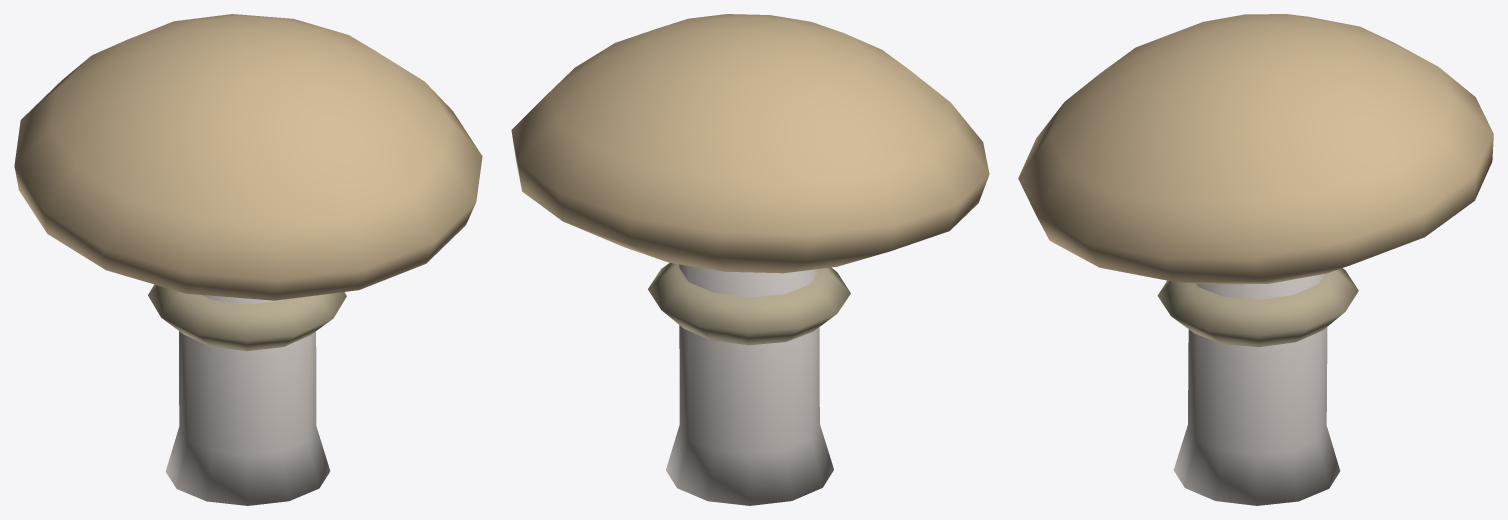
Rendered from Champignon_big.fbx.
3 renders of one model, left to right at view 1: azimuth 30°, elevation 25°; view 2: azimuth 150°, elevation 25°; view 3: azimuth 270°, elevation 25°, orthographic. The views are drawn at different scales.
Visible parts, largest first — view 1: Champignon_big; view 2: Champignon_big; view 3: Champignon_big.
Boxes of the visible parts, bbox=[...] form: Champignon_big: bbox=[14, 14, 482, 505]; Champignon_big: bbox=[511, 14, 989, 505]; Champignon_big: bbox=[1018, 14, 1493, 505].
Bounding box in the file's own units: 26.69 × 26.5 × 26.55.
